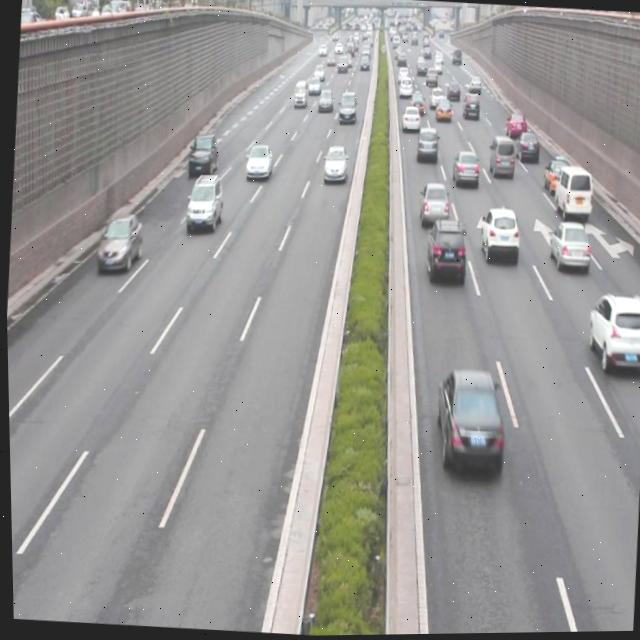car: (429, 365, 504, 474), (582, 290, 640, 376), (93, 209, 143, 272), (422, 216, 467, 284), (182, 171, 224, 234), (475, 206, 518, 266), (545, 219, 590, 273), (416, 181, 451, 232), (185, 130, 218, 179), (539, 157, 571, 200), (242, 140, 272, 182), (450, 148, 479, 190), (320, 143, 346, 186), (514, 129, 540, 166), (414, 123, 437, 162), (503, 109, 527, 142), (398, 103, 421, 135)
truck: (550, 164, 592, 220), (485, 134, 515, 180)
